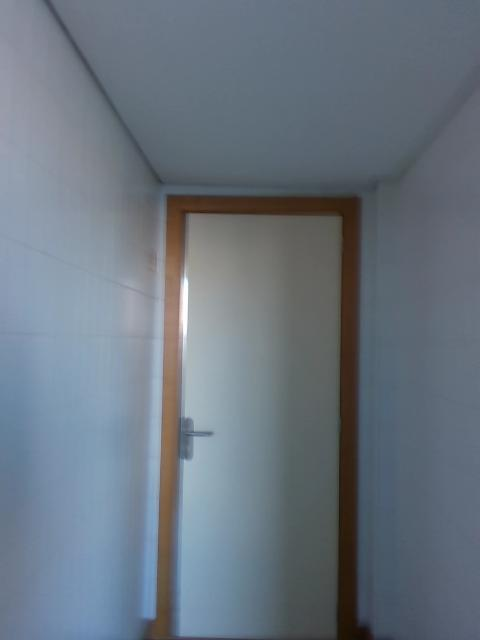door: (175, 210, 343, 640)
